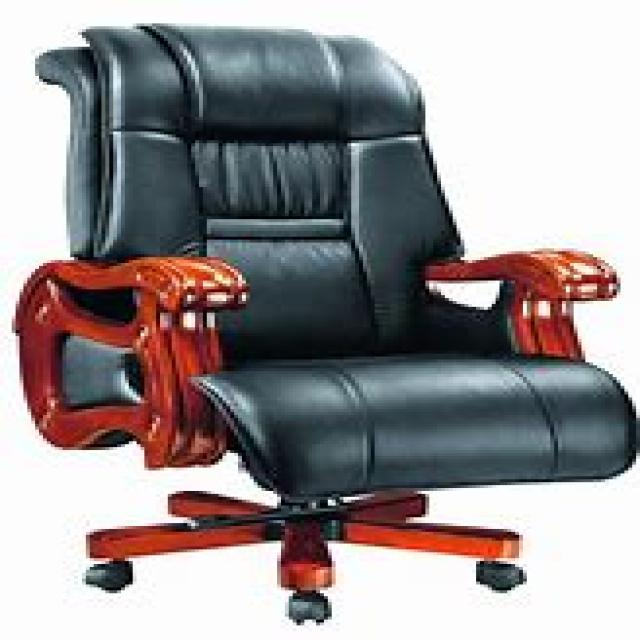chair: (12, 20, 636, 626)
